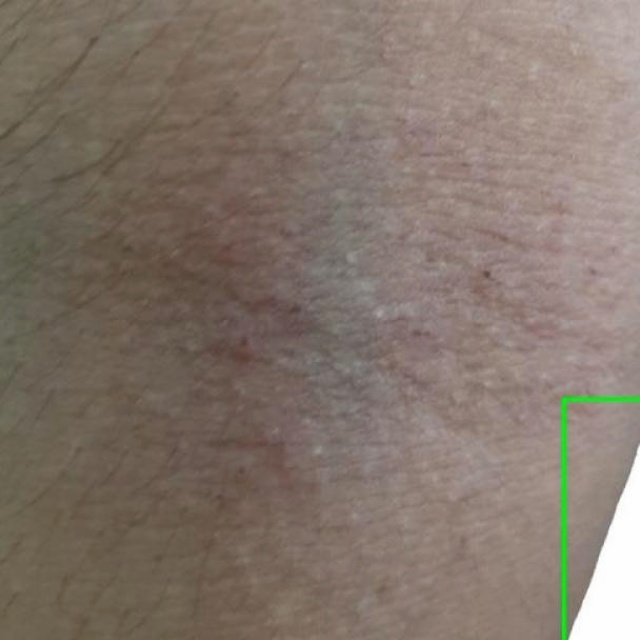Contact Dermatitis: (564, 399, 639, 639)
